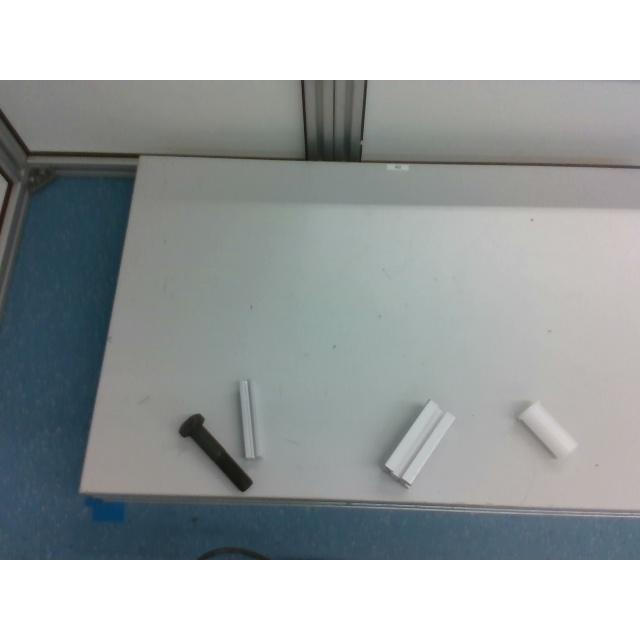F20_20_G: (236, 378, 264, 459)
M20_100: (180, 414, 252, 491)
S40_40_G: (384, 398, 456, 490)
Spacer: (518, 401, 578, 461)
